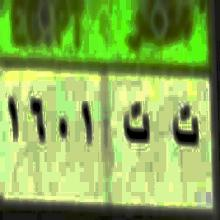0: (54, 106, 71, 148)
1: (74, 100, 99, 150), (4, 89, 21, 144)
6: (27, 90, 48, 152)
taa: (116, 94, 155, 156), (167, 96, 202, 151)
